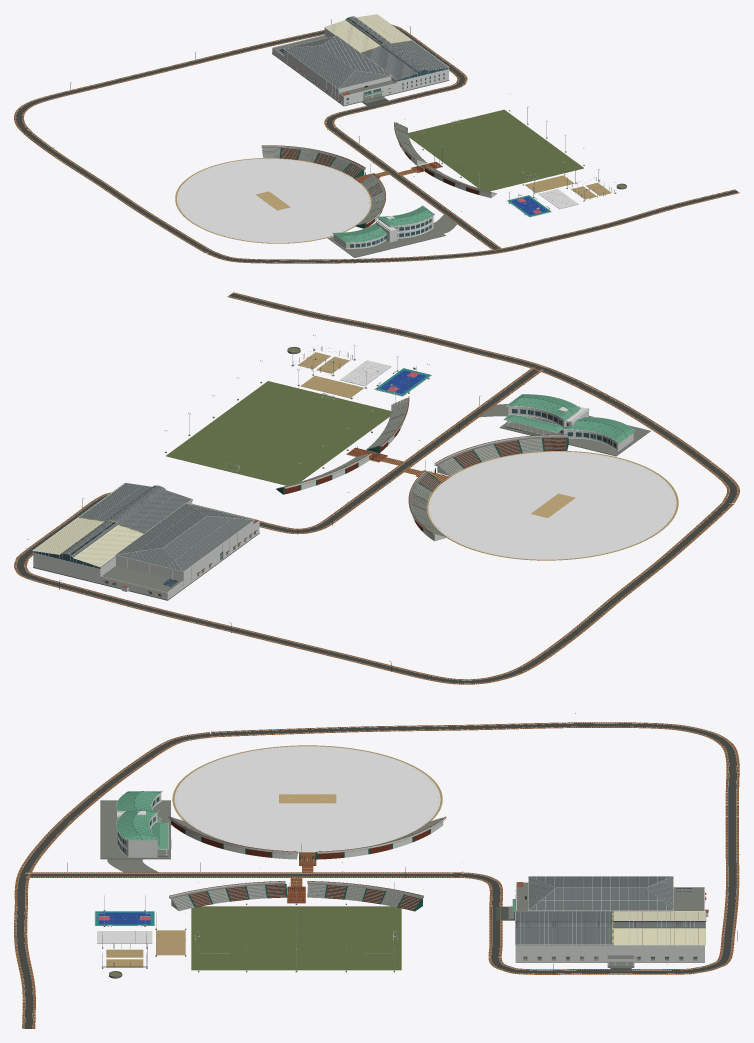
3 renders of one model, top to bottom at view 1: azimuth 30°, elevation 25°; view 2: azimuth 150°, elevation 25°; view 3: azimuth 270°, elevation 25°, orthographic. The views are drawn at different scales.
Parts seen in each view (by area): view 1: NIT Silchar campus; view 2: NIT Silchar campus; view 3: NIT Silchar campus.
Part boxes in pixels (x1=…): NIT Silchar campus: x1=14, y1=14, x2=739, y2=263; NIT Silchar campus: x1=14, y1=292, x2=739, y2=684; NIT Silchar campus: x1=14, y1=713, x2=739, y2=1028.
Bounding box in the file's own units: 393 × 14.65 × 393.
